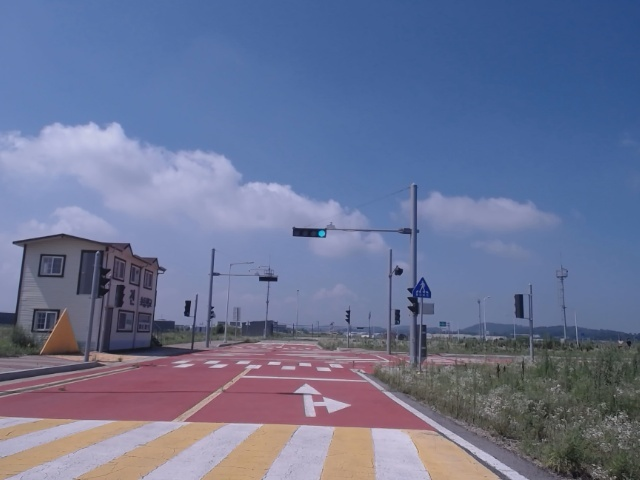straight_green_4: (293, 228, 326, 237)
